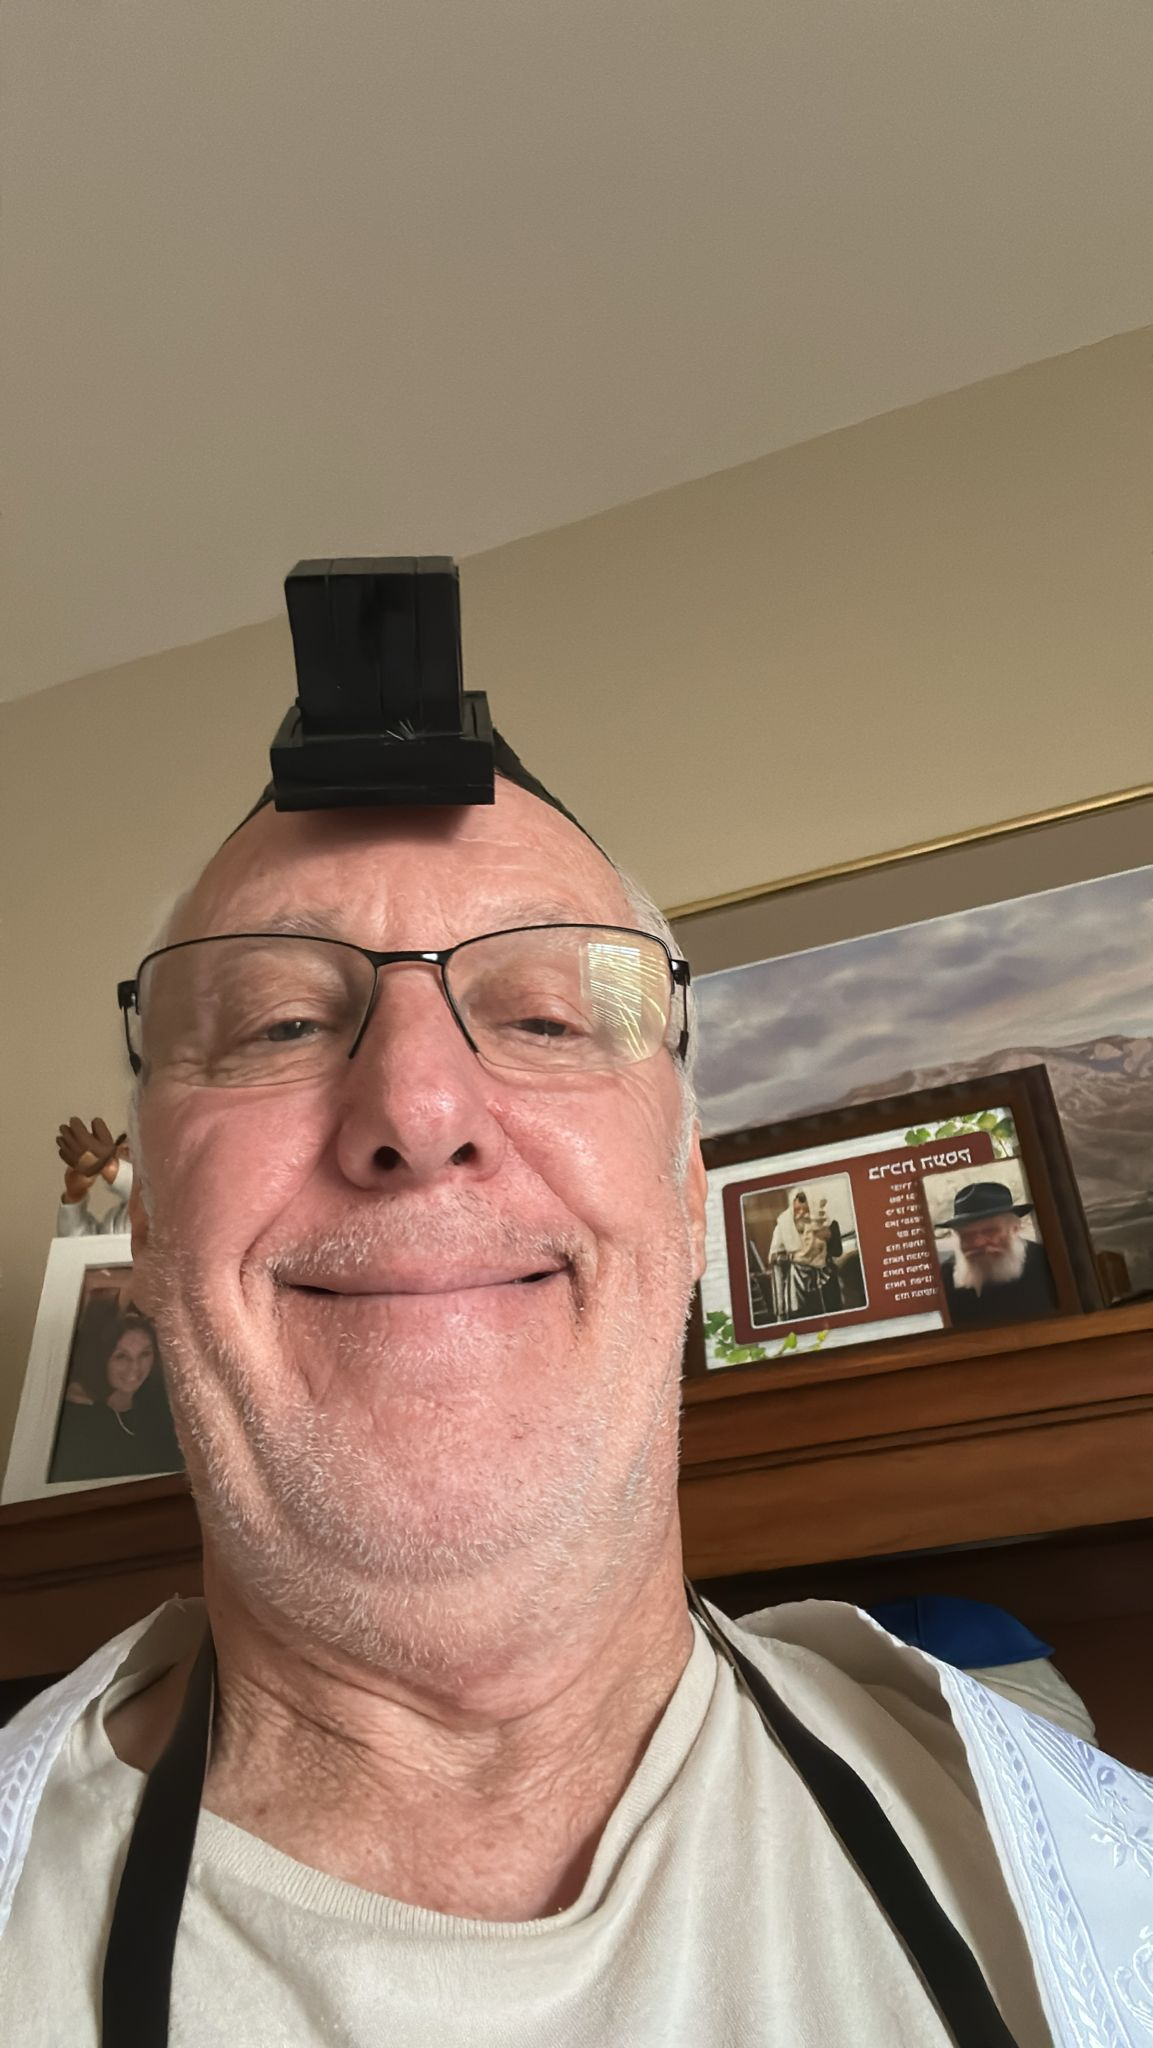tefillin: (274, 553, 494, 812)
